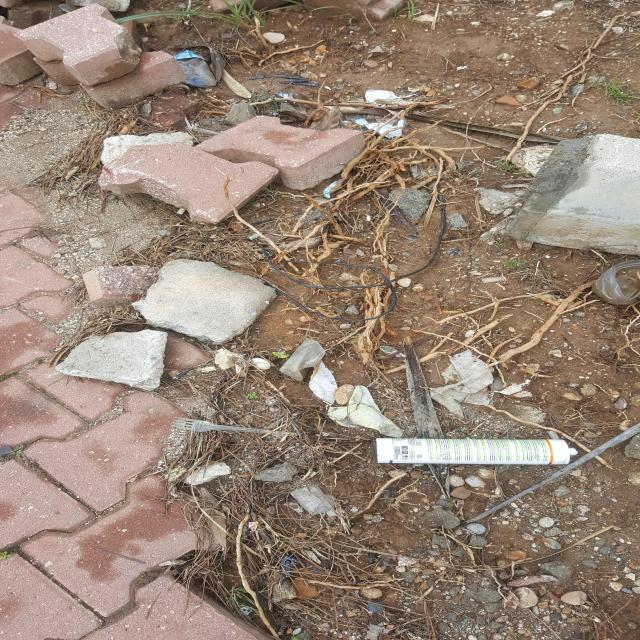litter: (376, 438, 577, 464)
